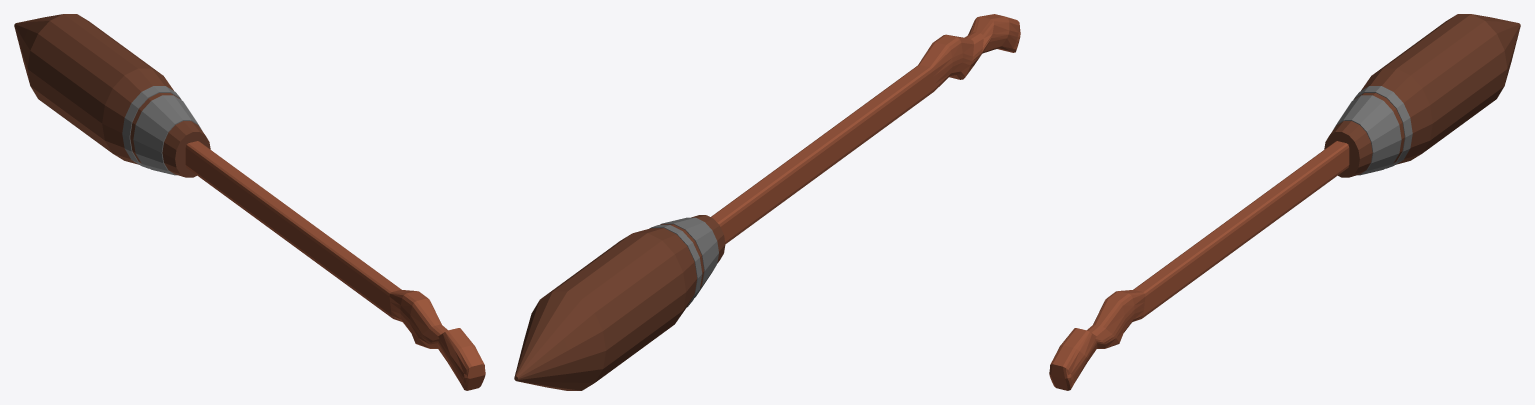
Rendered from brossdur6.obj.
3 renders of one model, left to right at view 1: azimuth 30°, elevation 25°; view 2: azimuth 150°, elevation 25°; view 3: azimuth 330°, elevation 25°, orthographic. The views are drawn at different scales.
Parts seen in each view (by area): view 1: Body; view 2: Body; view 3: Body.
Boxes of the visible parts, <box> form: Body: <box>14,14,485,390</box>; Body: <box>514,14,1020,390</box>; Body: <box>1049,14,1520,390</box>.
Bounding box in the file's own units: 0.4293 × 0.5255 × 4.75.
